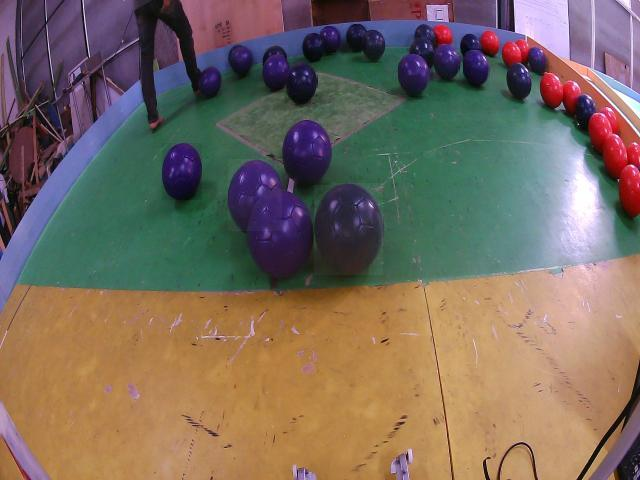jambhalya: (246, 190, 314, 278), (228, 160, 282, 231), (283, 120, 332, 185), (163, 144, 202, 200), (399, 55, 429, 96), (263, 53, 290, 92), (464, 50, 489, 86), (434, 44, 459, 80), (576, 93, 597, 131), (199, 67, 221, 98), (230, 46, 252, 76), (320, 27, 341, 54), (528, 46, 547, 74)
kaalyya: (315, 184, 383, 275), (286, 64, 317, 103), (506, 64, 531, 100), (361, 30, 385, 61), (410, 39, 435, 68), (303, 33, 324, 62), (346, 25, 366, 51), (262, 45, 288, 64), (460, 33, 480, 57), (415, 25, 436, 46), (228, 45, 243, 60)
